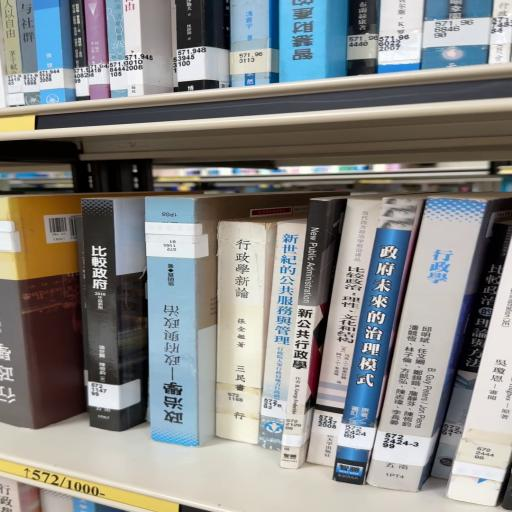reverse: (146, 194, 311, 447)
